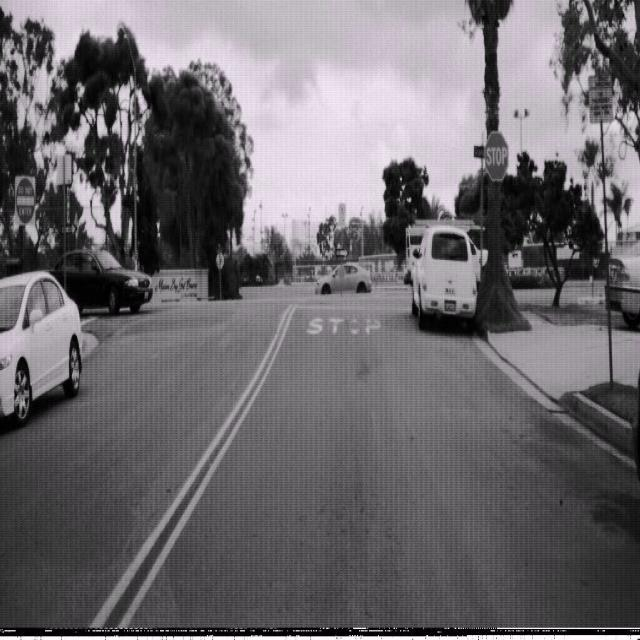stop_sign: (484, 130, 508, 183)
